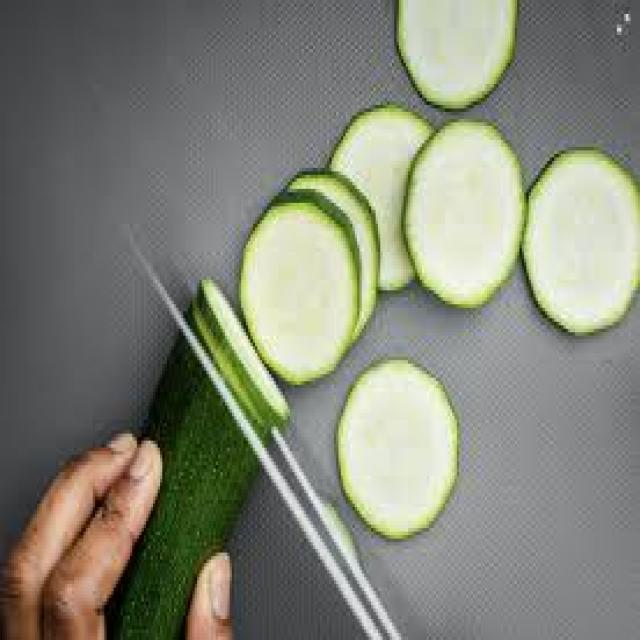vegetable marrow: (99, 278, 298, 640), (228, 129, 398, 363), (331, 320, 476, 541), (398, 100, 531, 324), (516, 123, 640, 363), (320, 84, 444, 306), (376, 0, 538, 119)
